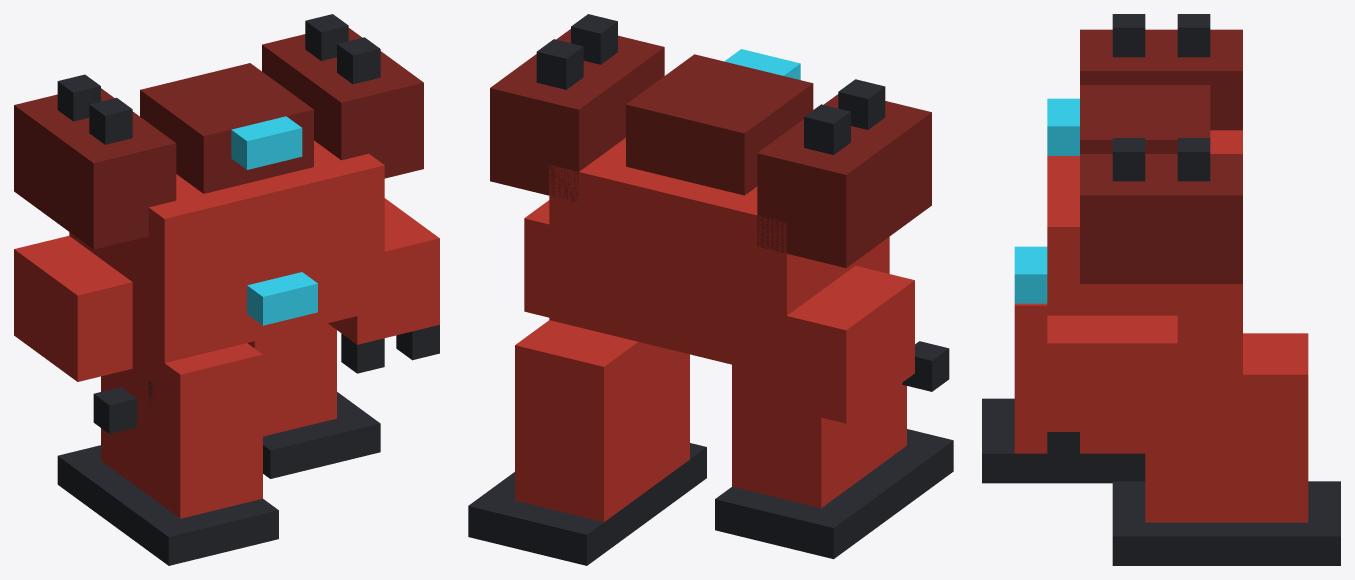
The model's file is mech_heavy_brute_walk_a.glb.
3 views of the same model, side by side, from view 1: azimuth 30°, elevation 25°; view 2: azimuth 150°, elevation 25°; view 3: azimuth 270°, elevation 25° (orthographic). The views are drawn at different scales.
Parts seen in each view (by area): view 1: Torso mesh, Leg L mesh, Arm L mesh, Feet mesh, Head mesh, Fist L mesh, Arm R mesh, Fist R mesh, Leg R mesh, Spike mesh, Claw mesh; view 2: Torso mesh, Leg R mesh, Feet mesh, Arm L mesh, Head mesh, Fist L mesh, Arm R mesh, Leg L mesh, Spike mesh, Fist R mesh, Claw mesh; view 3: Leg R mesh, Arm R mesh, Feet mesh, Torso mesh, Fist R mesh, Head mesh, Arm L mesh, Leg L mesh, Spike mesh, Claw mesh.
Part boxes in pixels (bbox=[...]): Torso mesh: bbox=[69, 140, 384, 362]; Leg L mesh: bbox=[101, 340, 262, 518]; Arm L mesh: bbox=[14, 88, 176, 249]; Feet mesh: bbox=[57, 392, 380, 565]; Head mesh: bbox=[140, 63, 313, 193]; Fist L mesh: bbox=[14, 236, 132, 381]; Arm R mesh: bbox=[262, 28, 423, 178]; Fist R mesh: bbox=[328, 198, 439, 344]; Leg R mesh: bbox=[247, 323, 336, 436]; Spike mesh: bbox=[57, 14, 380, 144]; Claw mesh: bbox=[93, 325, 439, 433]; Torso mesh: bbox=[549, 138, 889, 377]; Leg R mesh: bbox=[515, 320, 689, 522]; Feet mesh: bbox=[468, 429, 953, 565]; Arm L mesh: bbox=[757, 94, 931, 267]; Head mesh: bbox=[626, 49, 813, 195]; Fist L mesh: bbox=[757, 265, 914, 423]; Arm R mesh: bbox=[490, 29, 664, 202]; Leg L mesh: bbox=[732, 364, 906, 508]; Spike mesh: bbox=[536, 14, 885, 154]; Fist R mesh: bbox=[524, 200, 549, 317]; Claw mesh: bbox=[902, 341, 949, 391]; Leg R mesh: bbox=[1145, 333, 1308, 522]; Arm R mesh: bbox=[1080, 154, 1242, 283]; Feet mesh: bbox=[982, 398, 1340, 565]; Torso mesh: bbox=[1014, 130, 1242, 374]; Fist R mesh: bbox=[1047, 315, 1177, 431]; Head mesh: bbox=[1047, 85, 1210, 155]; Arm L mesh: bbox=[1080, 29, 1242, 130]; Leg L mesh: bbox=[1014, 303, 1145, 453]; Spike mesh: bbox=[1112, 14, 1210, 181]; Claw mesh: bbox=[1047, 432, 1079, 461].
Size of the model in its own units: 12 by 14 by 11.
1 material, 1 textured.
